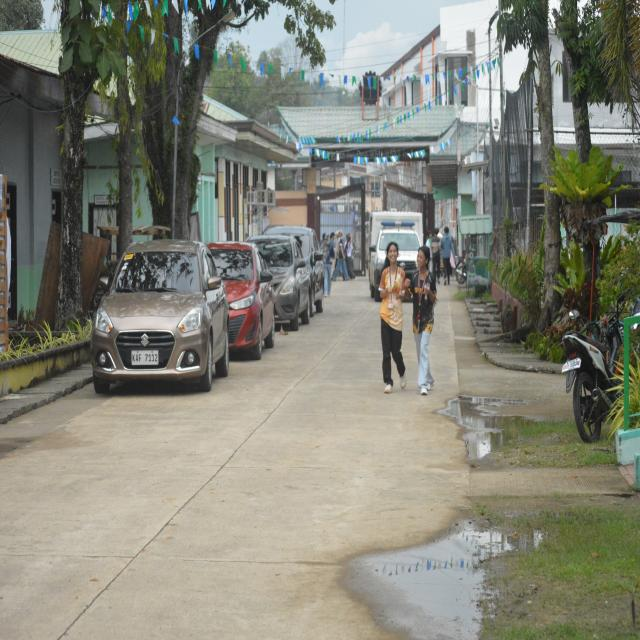person: (379, 242, 409, 393), (410, 246, 436, 395), (441, 227, 454, 284), (325, 232, 335, 296), (430, 229, 440, 283), (346, 234, 355, 279)
